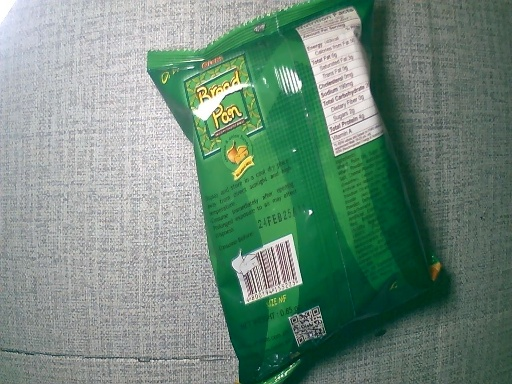plastic: (145, 3, 449, 384)
